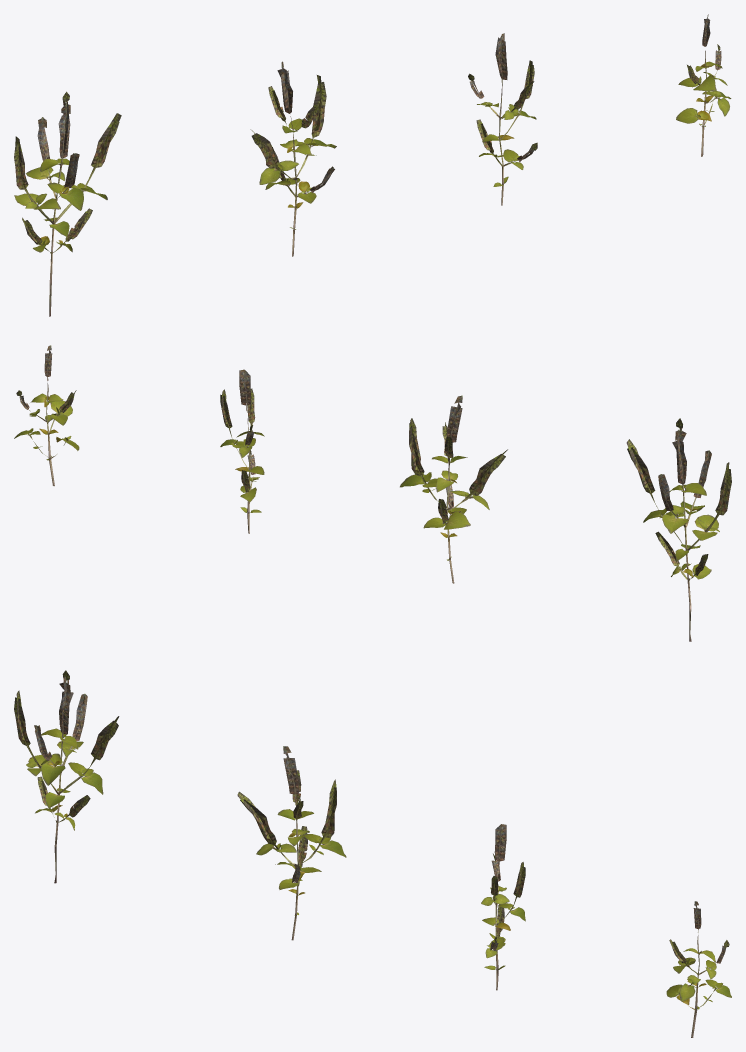
File: shrub_03_lod1.glb
3 views of the same model, one above another, from view 1: azimuth 30°, elevation 25°; view 2: azimuth 150°, elevation 25°; view 3: azimuth 330°, elevation 25° (orthographic). The views are drawn at different scales.
Visible parts, largest first — view 1: shrub_03_a, shrub_03_b, shrub_03_c, shrub_03_d; view 2: shrub_03_a, shrub_03_b, shrub_03_c, shrub_03_d; view 3: shrub_03_a, shrub_03_b, shrub_03_c, shrub_03_d.
Part boxes in pixels (x1,y1,x2,y2): shrub_03_a: [14, 91, 121, 316]; shrub_03_b: [250, 61, 336, 256]; shrub_03_c: [468, 33, 537, 205]; shrub_03_d: [676, 14, 731, 156]; shrub_03_a: [626, 418, 731, 641]; shrub_03_b: [400, 395, 507, 583]; shrub_03_c: [220, 369, 264, 533]; shrub_03_d: [14, 345, 79, 486]; shrub_03_a: [14, 670, 119, 883]; shrub_03_b: [237, 746, 346, 940]; shrub_03_c: [481, 824, 525, 990]; shrub_03_d: [666, 901, 731, 1037].
Size of the model in its own units: 1.37 by 0.4028 by 0.1512.
Materials: 1 (1 with a texture image).
